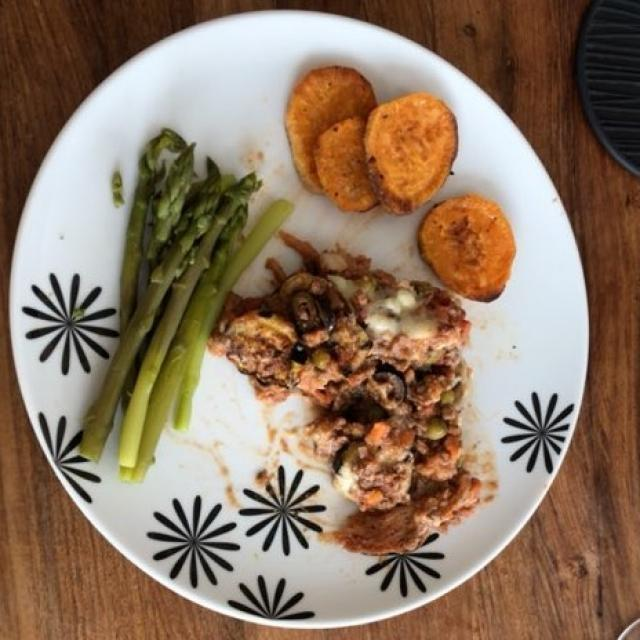asparagus: (77, 137, 288, 481)
minced-meat: (224, 256, 490, 557)
sweet-potato: (293, 69, 510, 296)
